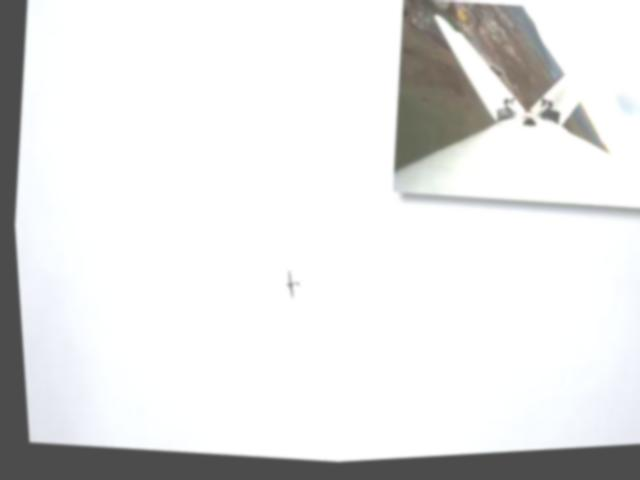uav: (268, 264, 307, 311)
